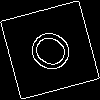O: (25, 25, 84, 82)
